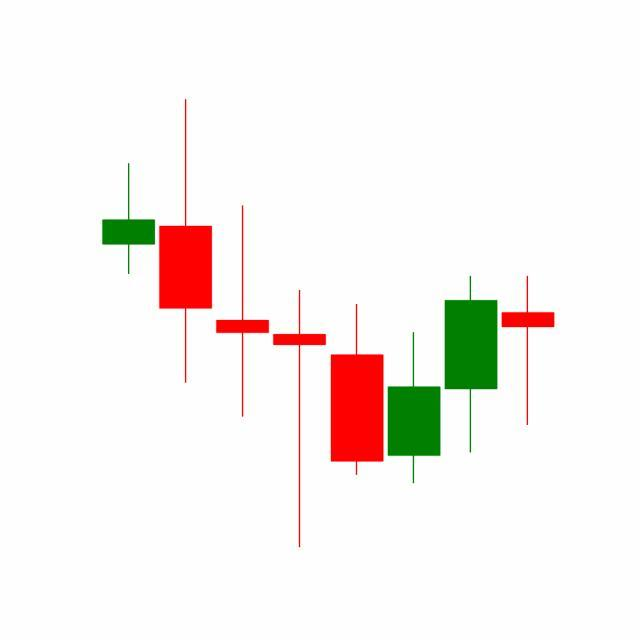Hikkake Pattern: (214, 202, 501, 549)
